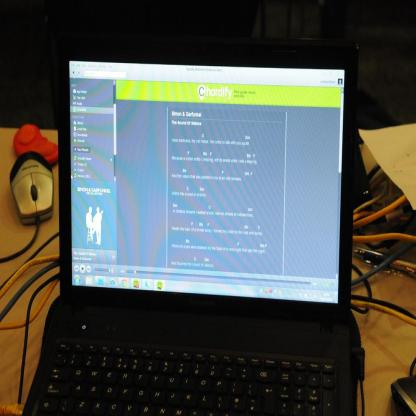board: (12, 65, 381, 416)
